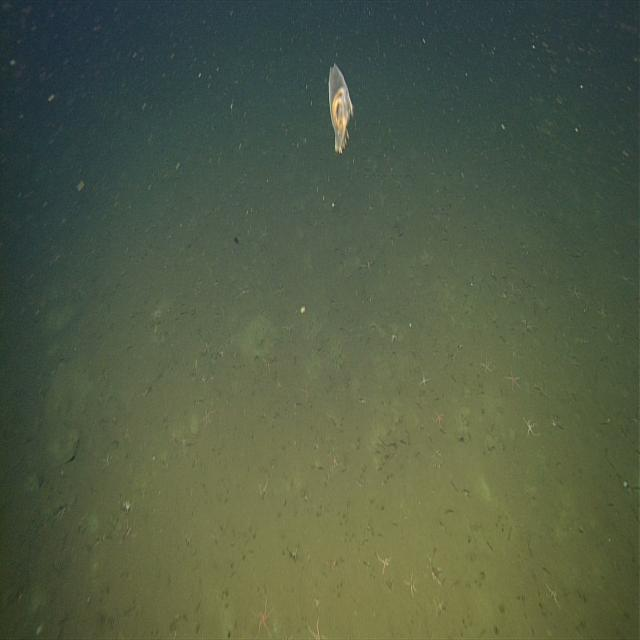Brittle Star: (249, 590, 275, 638), (540, 577, 561, 609), (522, 414, 542, 442), (402, 569, 420, 600), (504, 362, 521, 394), (374, 549, 392, 574), (478, 350, 492, 376), (418, 365, 432, 390), (430, 405, 444, 427), (201, 404, 212, 427)
Not Brittle Star: (325, 60, 356, 156)
